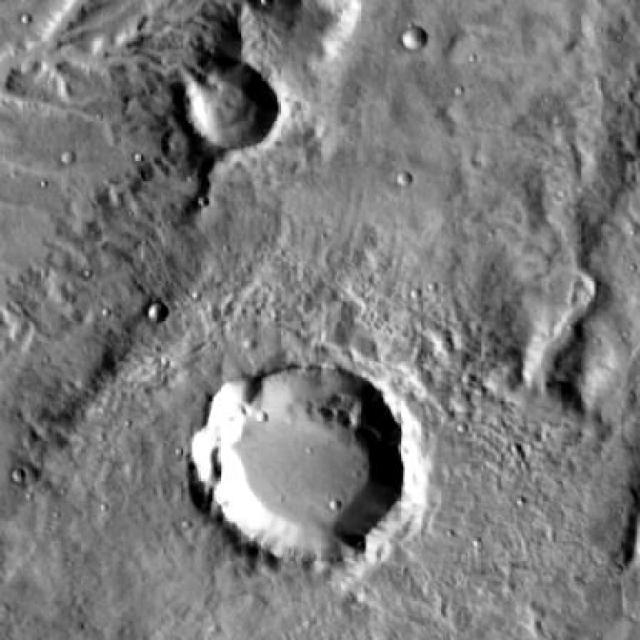crater: (194, 364, 403, 561), (178, 70, 274, 161), (402, 27, 426, 50), (147, 304, 164, 322)
